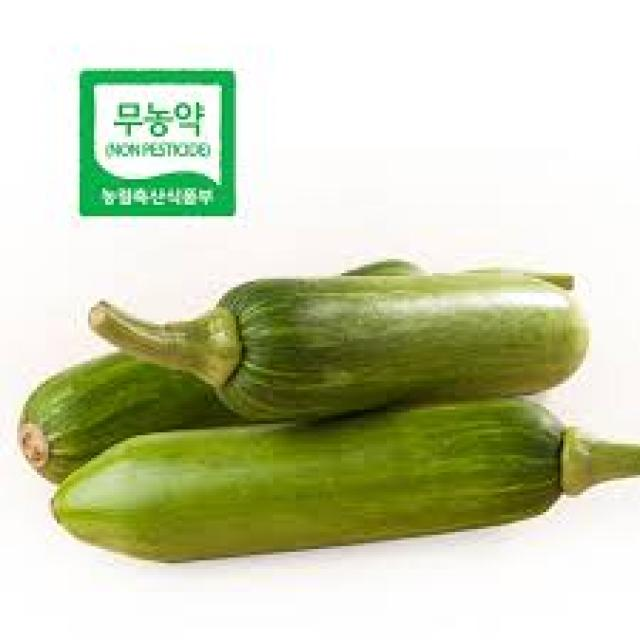Yogurt cup: (53, 401, 639, 562), (91, 272, 592, 424)
